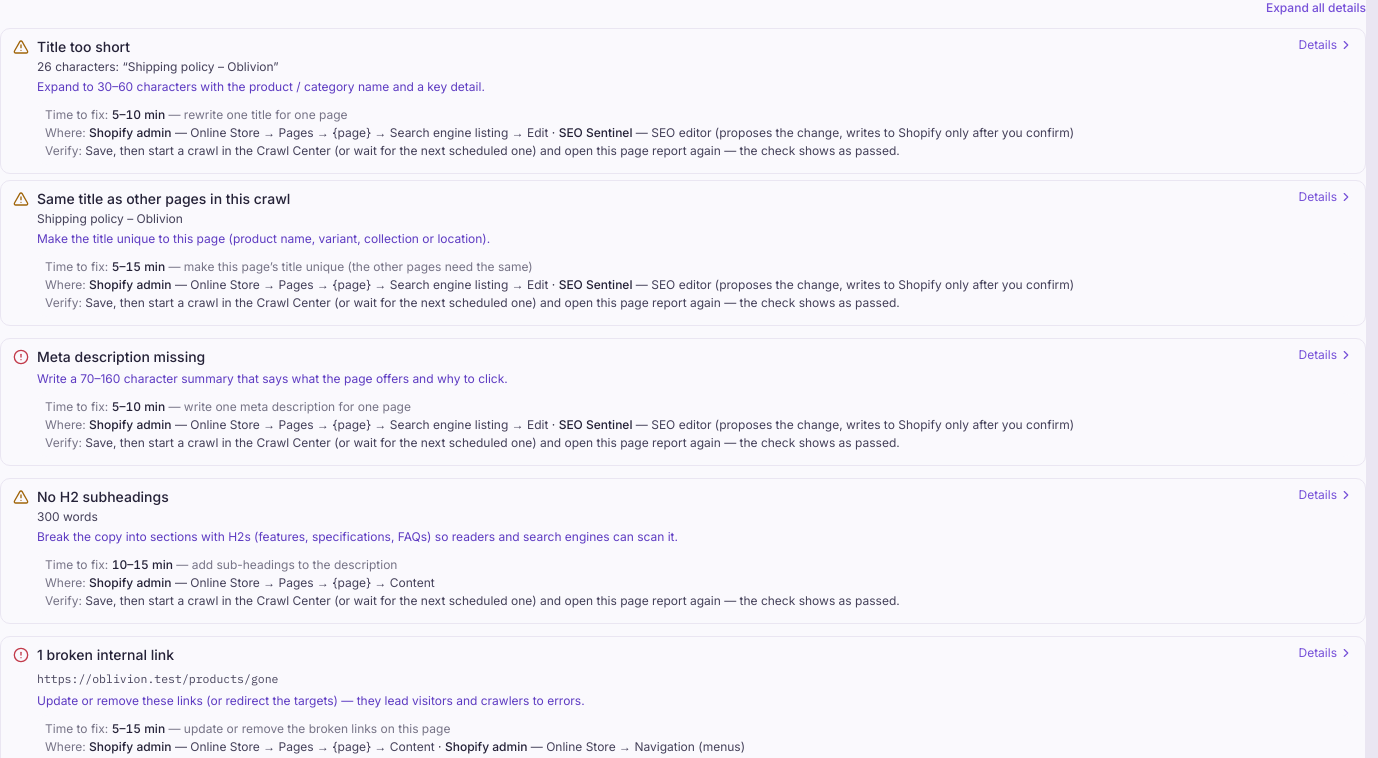
Scenario: expandable issue details › says what could not be identified on an older crawl instead of inventing it
Step 1. Click the button with test id "details-all" → (1316, 8), box x1=1266 y1=0 x2=1366 y2=16
(page scrolled)
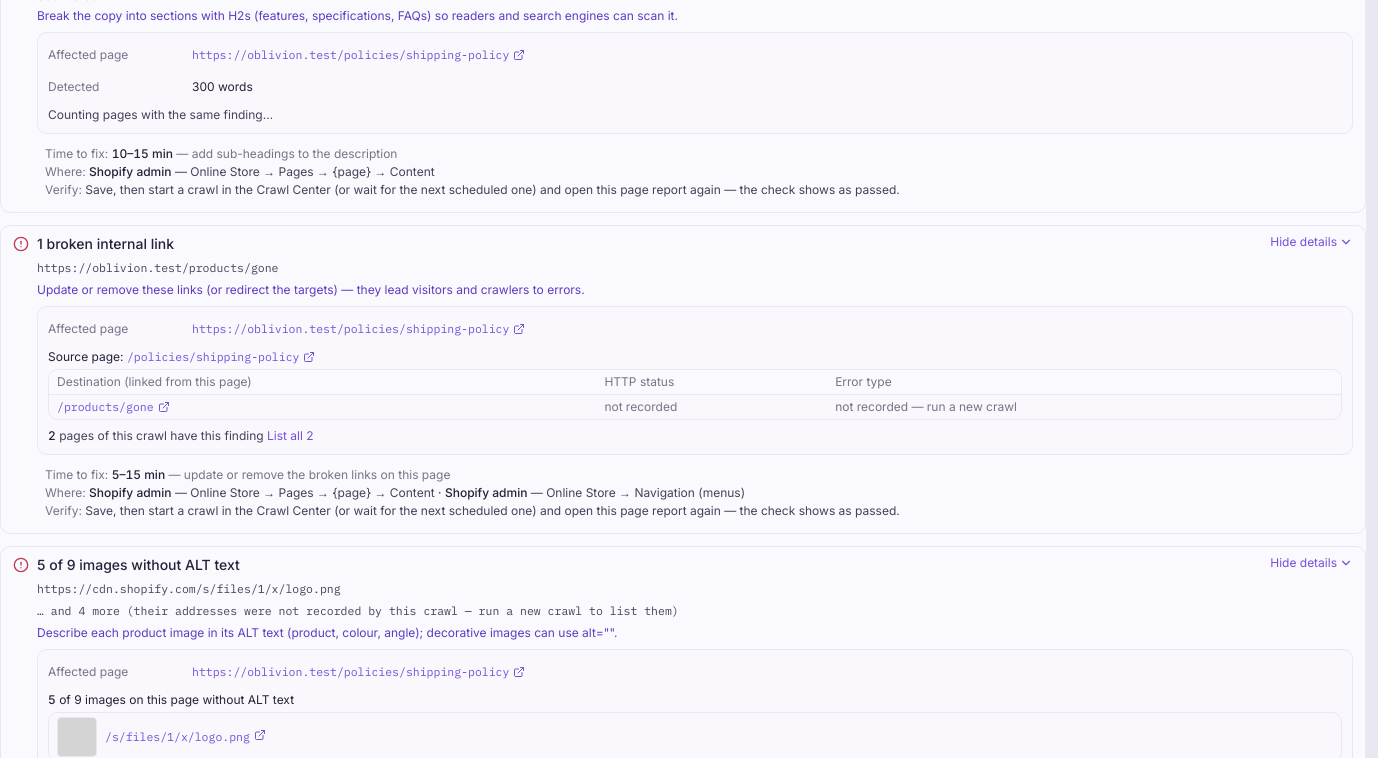
expect the element with test id "broken-links-table" shows "not recorded": met, box x1=604 y1=399 x2=677 y2=414
